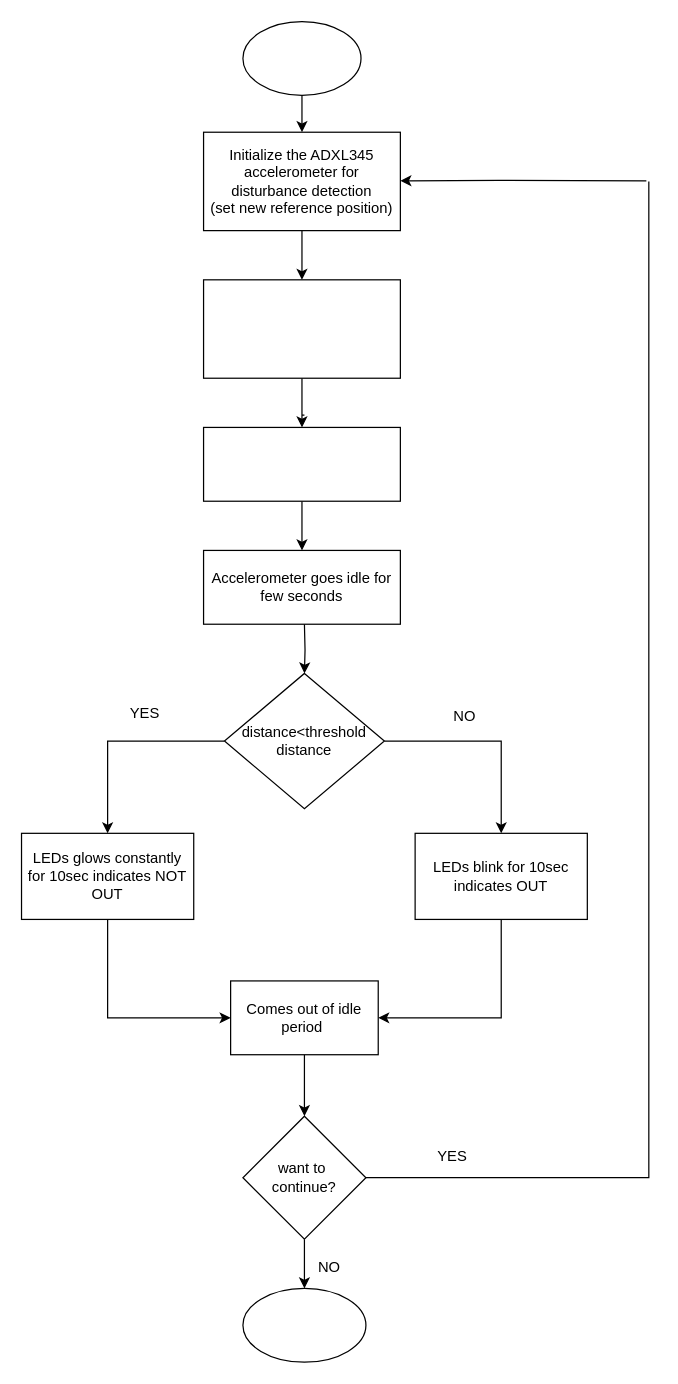
This 678x1384 diagram has some shape labels left out. The centre of each missing label's shape, as x and y in pixels:
"Disturbance detected by accelerometer" belongs at pixel 301 463.
"Initialize the VL53LOX ToF sensor for distance measurement" belongs at pixel 301 328.
"Start" belongs at pixel 301 57.
"Stop" belongs at pixel 304 1324.
